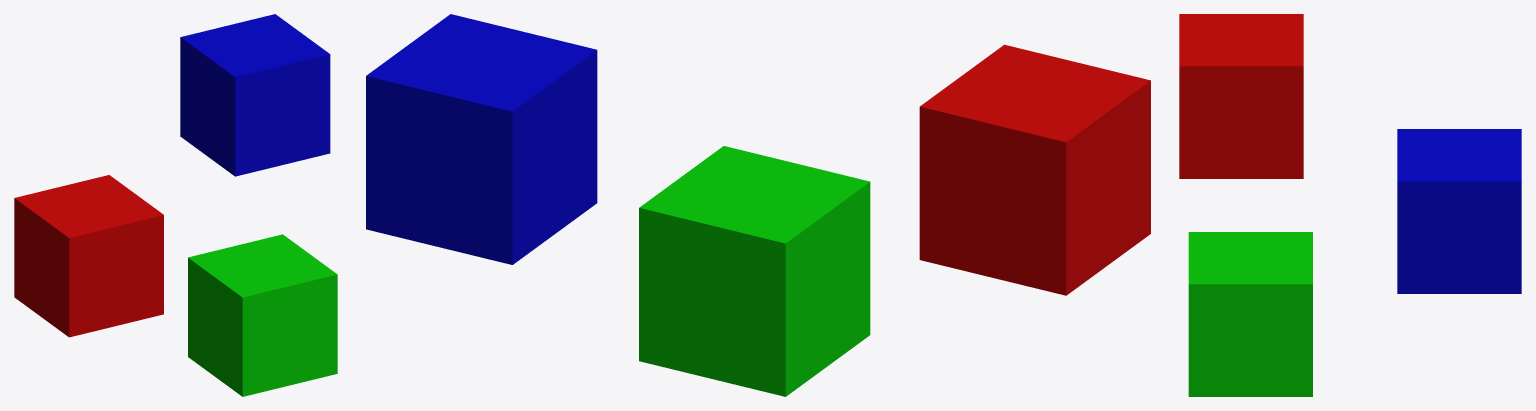
File: cubes.obj
The picture shows the model from 3 angles, left to right: view 1: azimuth 30°, elevation 25°; view 2: azimuth 150°, elevation 25°; view 3: azimuth 270°, elevation 25°; orthographic projection. The views are drawn at different scales.
Parts seen in each view (by area): view 1: Cube.002; view 2: Cube.002; view 3: Cube.002.
Boxes of the visible parts, left/top/right/bottom form: Cube.002: left=14, top=14, right=337, bottom=396; Cube.002: left=366, top=14, right=1150, bottom=396; Cube.002: left=1179, top=14, right=1521, bottom=396.
Bounding box in the file's own units: 7.53 × 4.66 × 5.51.
